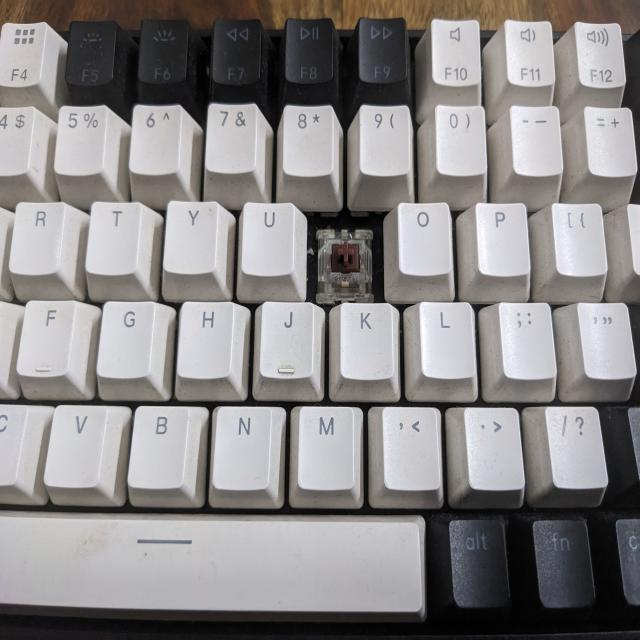C: (313, 215, 375, 291)
